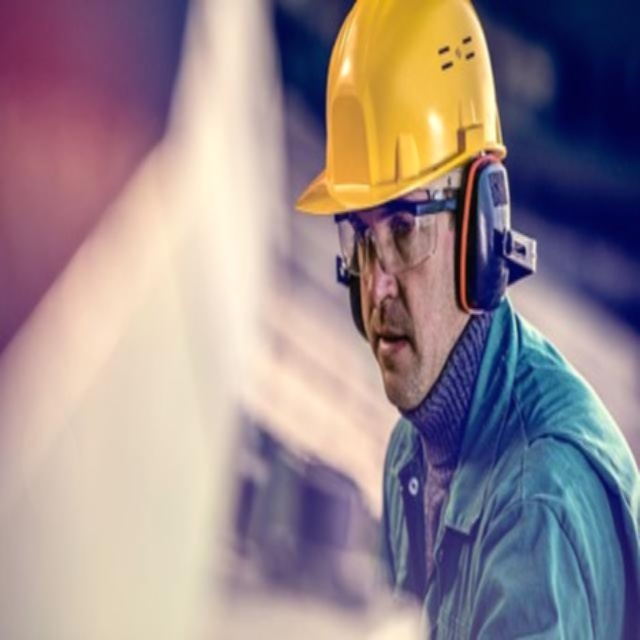goggles: (328, 186, 466, 279)
helmet: (292, 4, 508, 219)
